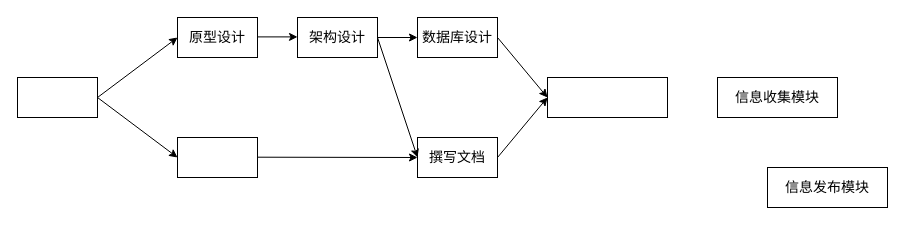
The diagram is 905 pixels wide and 225 high, and some of its shapes have lost their labels. Each missing label, with the centre of its shape:
"信息维护模块" goes at point (607, 97).
"开始" goes at point (57, 97).
"接口文档" goes at point (217, 157).
